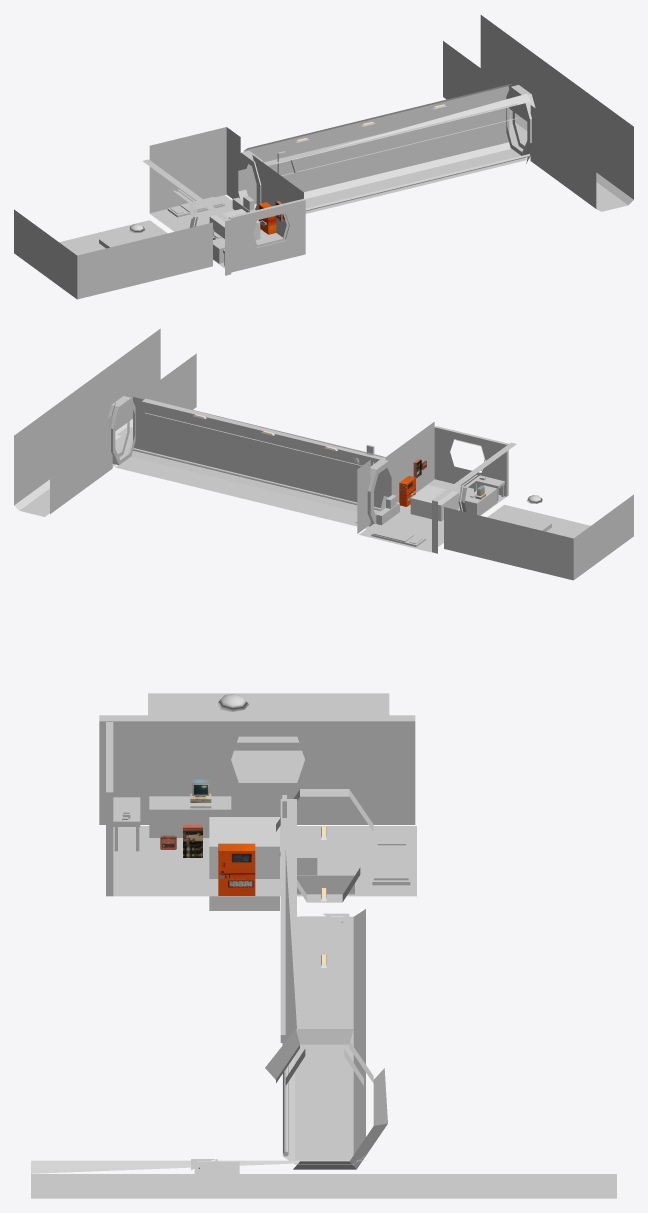
The model's file is room2.glb.
3 views of the same model, one above another, from view 1: azimuth 30°, elevation 25°; view 2: azimuth 150°, elevation 25°; view 3: azimuth 270°, elevation 25° (orthographic). The views are drawn at different scales.
Visible parts, largest first — view 1: Cube.023, Cube.026, Plane.010, Plane.002, Plane.001, Plane, Cube.024, Plane.011, Cylinder.003, Cylinder.007, Plane.005, Cube.028 (+2 smaller); view 2: Cube.023, Cube.026, Plane.010, Plane, Plane.001, Cube.028, Cube.027, Plane.011, Cube, Cylinder.003, Cylinder.007, Plane.002 (+3 smaller); view 3: Plane.011, Cube.026, Cube.023, Plane, Plane.010, Cylinder.007, Cube, Cube.028, Cube.001, Cube.007, Plane.001, Cube.024 (+6 smaller).
Part boxes in pixels (<box>): Cube.023: <box>243,86,527,213</box>; Cube.026: <box>443,15,633,211</box>; Plane.010: <box>14,209,212,299</box>; Plane.002: <box>149,127,240,213</box>; Plane.001: <box>228,198,305,272</box>; Plane: <box>149,155,303,268</box>; Cube.024: <box>244,83,530,165</box>; Plane.011: <box>143,159,231,275</box>; Cylinder.003: <box>234,150,262,210</box>; Cylinder.007: <box>506,78,535,163</box>; Plane.005: <box>168,152,208,187</box>; Cube.028: <box>263,103,518,165</box>; Cube.023: <box>115,397,383,528</box>; Cube.026: <box>14,328,196,516</box>; Plane.010: <box>444,494,633,580</box>; Plane: <box>359,421,506,552</box>; Plane.001: <box>434,426,508,496</box>; Cube.028: <box>141,398,385,462</box>; Cube.027: <box>144,412,383,474</box>; Plane.011: <box>432,442,516,553</box>; Cube: <box>410,485,458,521</box>; Cylinder.003: <box>367,459,394,526</box>; Cylinder.007: <box>108,396,135,465</box>; Plane.002: <box>357,460,370,533</box>; Plane.011: <box>99,715,415,824</box>; Cube.026: <box>31,1160,616,1198</box>; Cube.023: <box>282,909,365,1164</box>; Plane: <box>113,826,416,896</box>; Plane.010: <box>148,693,389,782</box>; Cylinder.007: <box>265,1029,387,1169</box>; Cube: <box>209,817,279,910</box>; Cube.028: <box>280,799,296,1042</box>; Cube.001: <box>149,796,231,837</box>; Cube.007: <box>218,843,255,895</box>; Plane.001: <box>106,722,113,896</box>; Cube.024: <box>282,850,296,1048</box>.
Bounding box in the file's own units: 32.78 × 5.03 × 16.55.
Materials: 6 (3 with a texture image).
